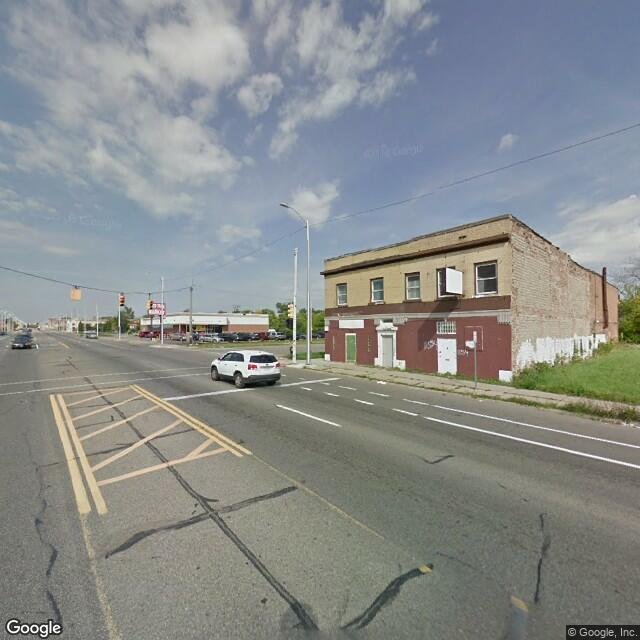litter: (375, 380, 388, 384), (479, 398, 482, 401)
